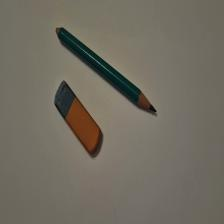eraser: (55, 81, 103, 155)
pencil: (57, 28, 158, 114)
